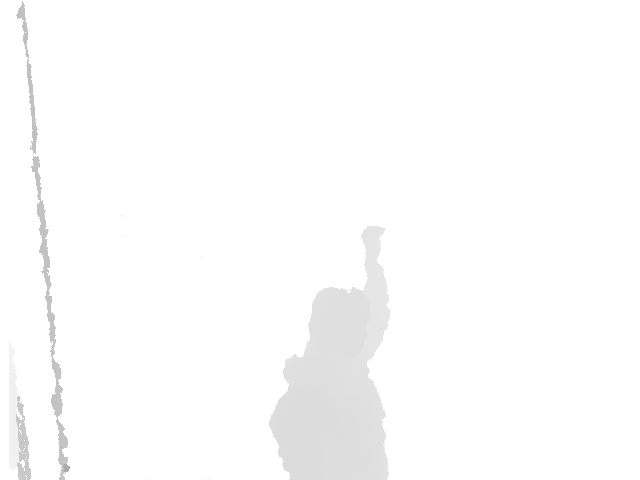hand: (361, 225, 387, 255)
head: (310, 287, 370, 361)
person: (267, 225, 389, 480)
